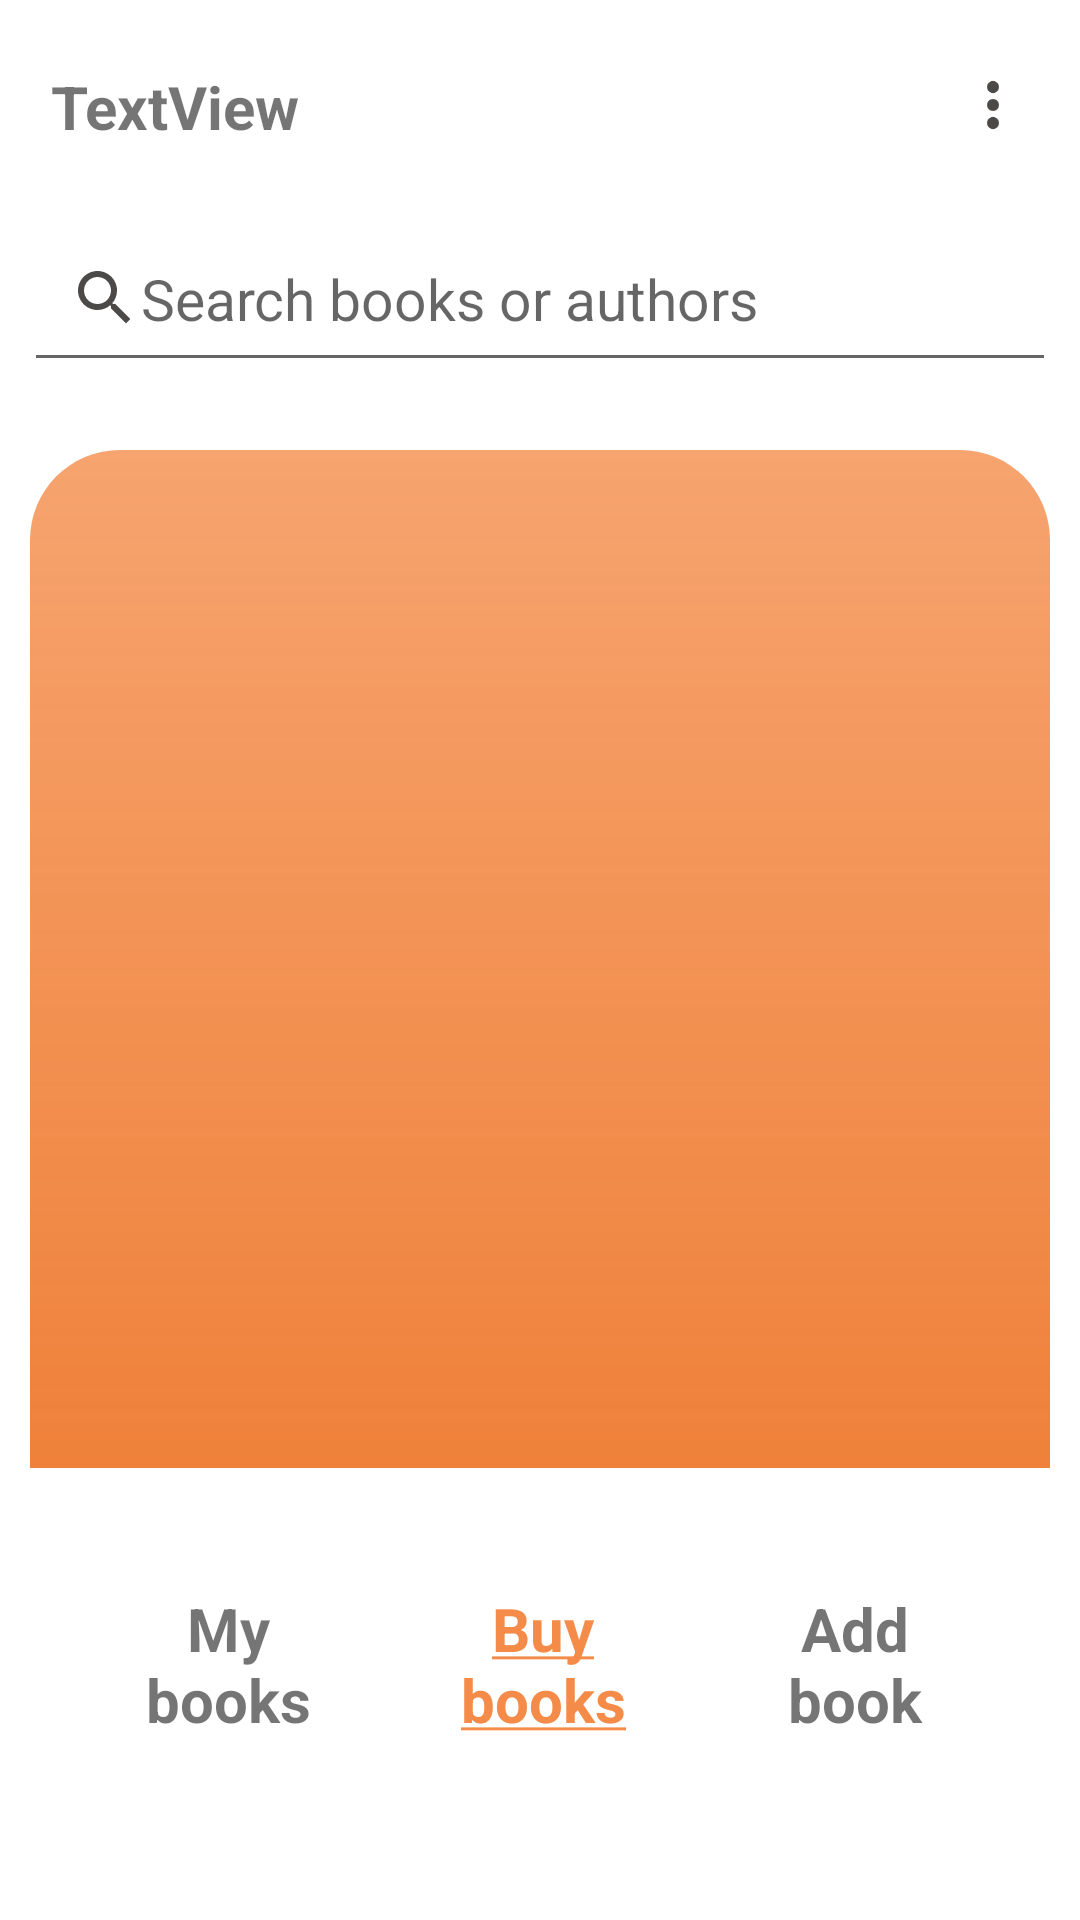

Icon bounding boxes for this 1080px x 1920px phone screenshot, format (x1, y1, x2, y2):
menu: (987, 81, 999, 129)
